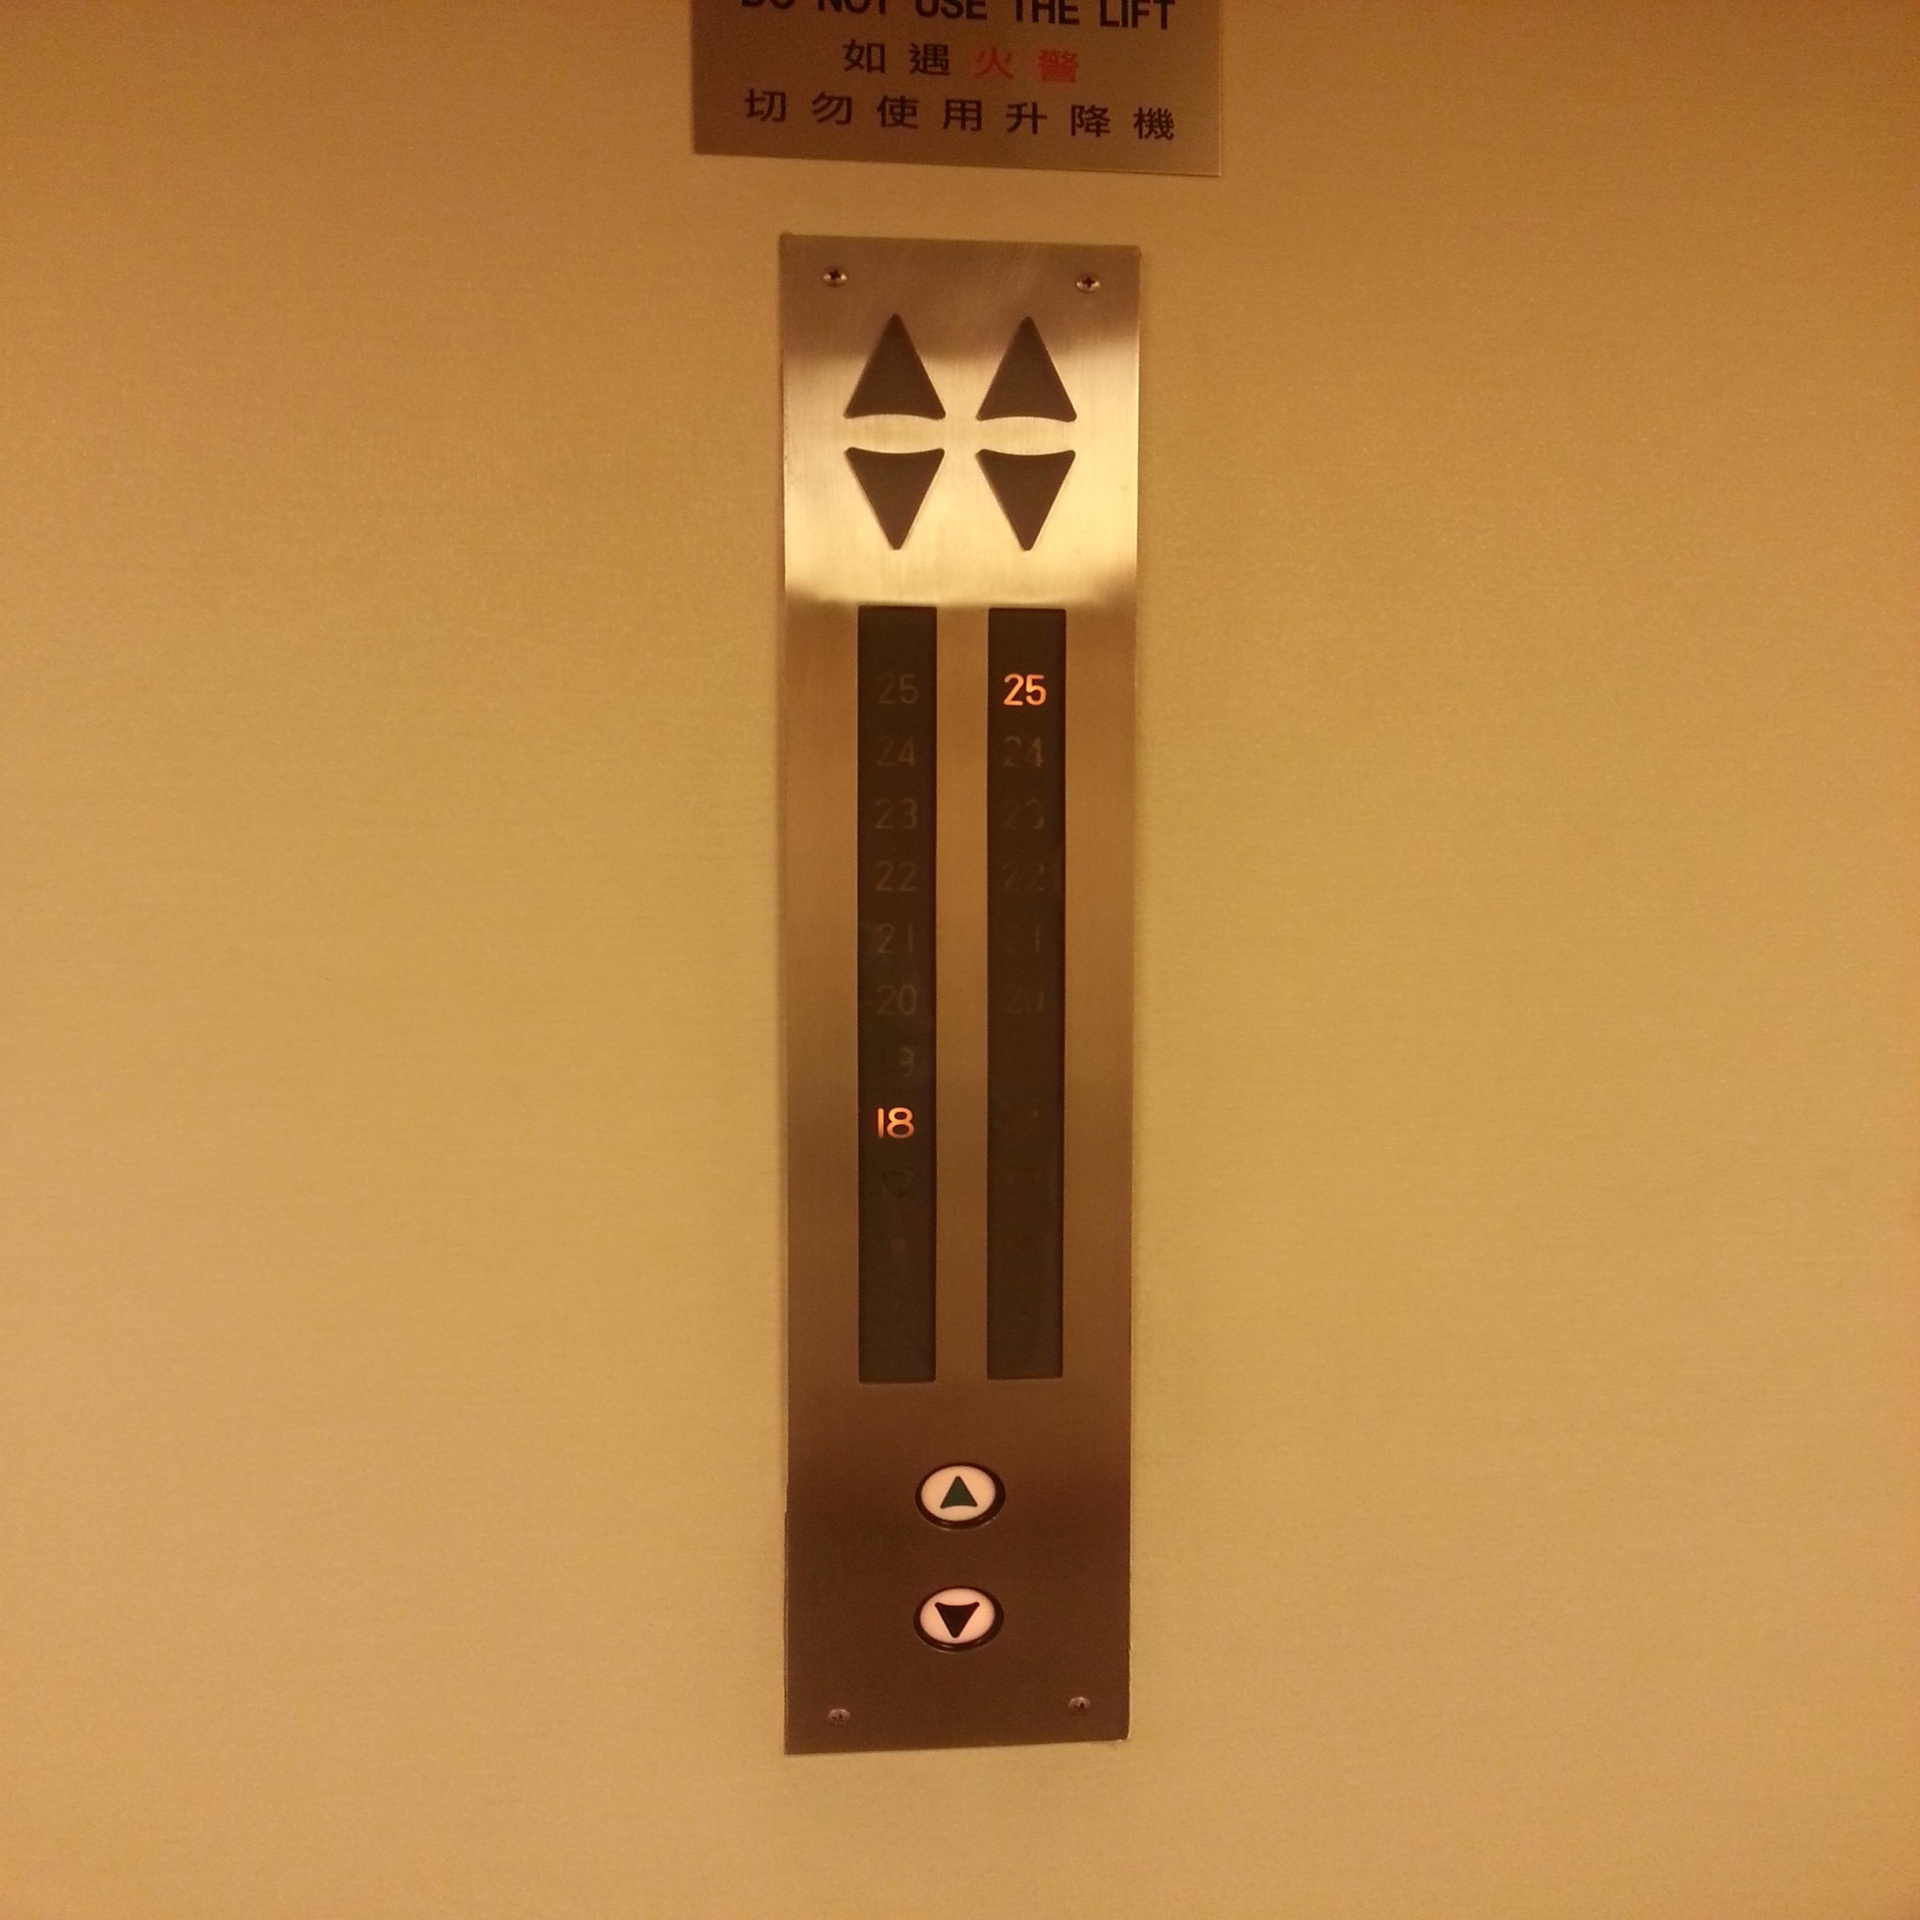down: (913, 1584, 1006, 1651)
led: (855, 605, 939, 1384), (986, 605, 1065, 1384)
up: (914, 1459, 1007, 1531)
